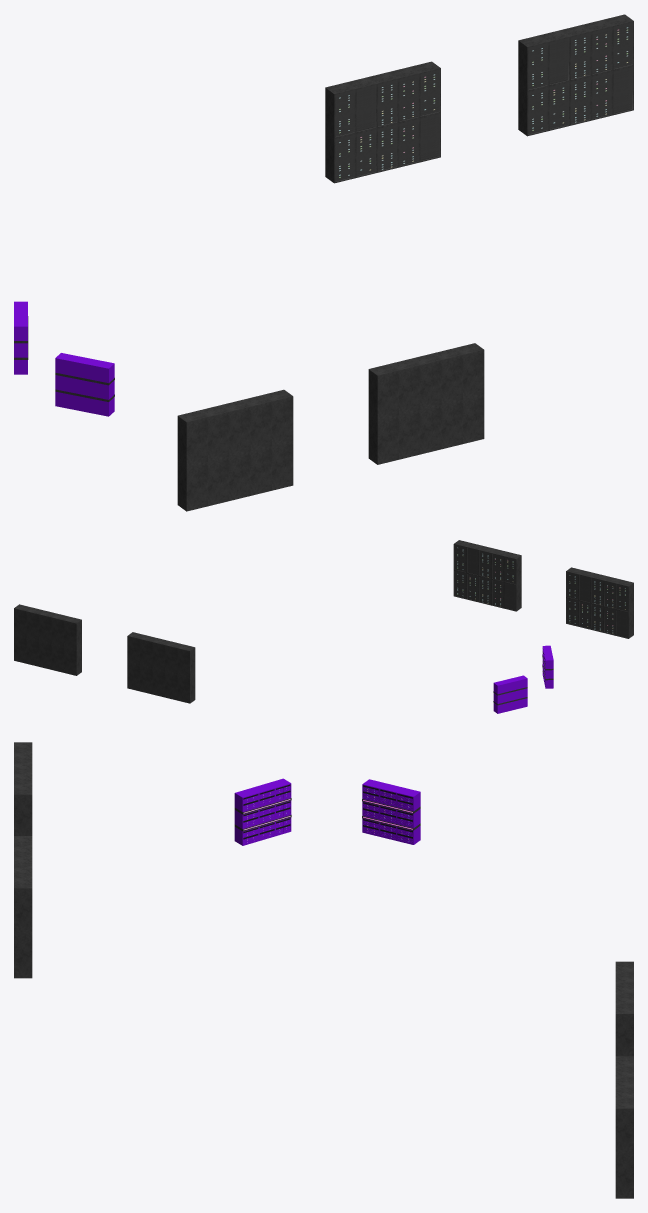
The model's file is Servers.glb.
The picture shows the model from 3 angles, top to bottom: view 1: azimuth 30°, elevation 25°; view 2: azimuth 150°, elevation 25°; view 3: azimuth 270°, elevation 25°; orthographic projection. The views are drawn at different scales.
Parts seen in each view (by area): view 1: Servers.002, Servers.001, Servers.003, Servers; view 2: Servers.001, Servers.003, Servers, Servers.002; view 3: Servers, Servers.001, Servers.003, Servers.002.
Boxes of the visible parts, x1=… form: Servers.002: x1=177, y1=389, x2=293, y2=511; Servers.001: x1=368, y1=343, x2=484, y2=464; Servers.003: x1=325, y1=61, x2=440, y2=183; Servers: x1=518, y1=14, x2=633, y2=136; Servers.001: x1=453, y1=540, x2=521, y2=611; Servers.003: x1=127, y1=632, x2=195, y2=703; Servers: x1=14, y1=604, x2=81, y2=675; Servers.002: x1=566, y1=567, x2=633, y2=638; Servers: x1=615, y1=1056, x2=633, y2=1198; Servers.001: x1=14, y1=836, x2=32, y2=978; Servers.003: x1=615, y1=961, x2=633, y2=1056; Servers.002: x1=14, y1=742, x2=32, y2=835.
Size of what is drawn, in the model's own units: 35 by 4 by 25.04.
11 materials, 4 textured.
